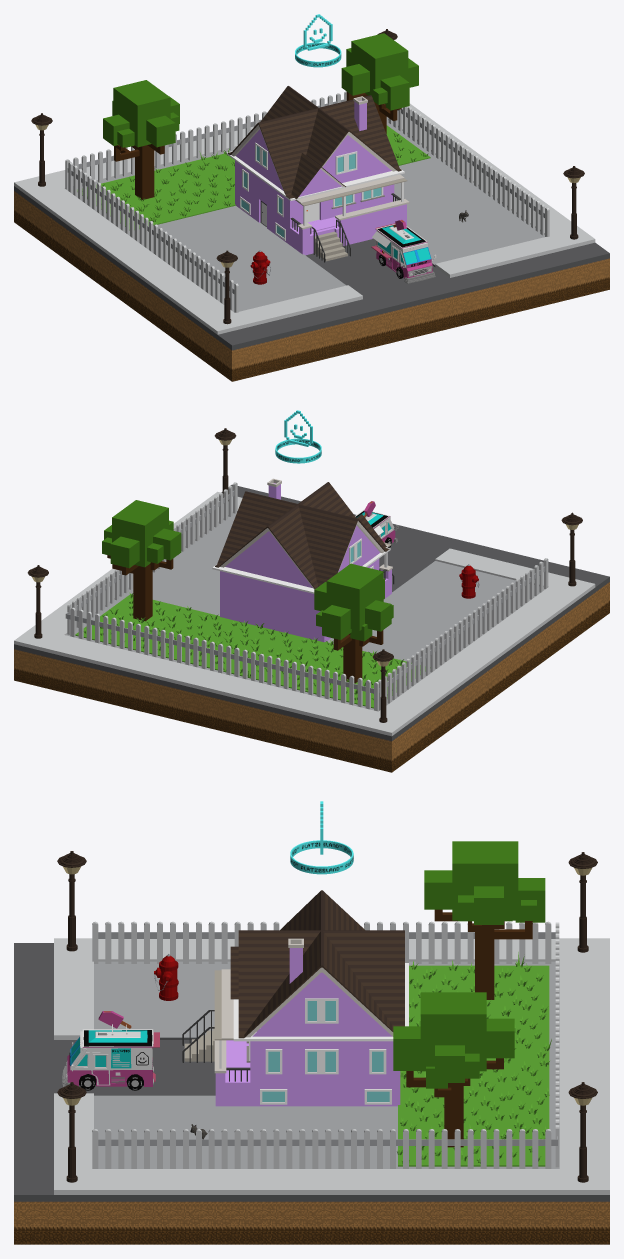
3 renders of one model, top to bottom at view 1: azimuth 30°, elevation 25°; view 2: azimuth 150°, elevation 25°; view 3: azimuth 270°, elevation 25°, orthographic. The views are drawn at different scales.
Visible parts, largest first — view 1: Cube.004, Cube.391, VEHICLES_ICE_CREAM_TRUCK, TYPE_PREMIUM, OBJRANDOM_FIRE_HYDRANT; view 2: Cube.004, Cube.391, TYPE_PREMIUM, VEHICLES_ICE_CREAM_TRUCK, OBJRANDOM_FIRE_HYDRANT; view 3: Cube.004, Cube.391, VEHICLES_ICE_CREAM_TRUCK, TYPE_PREMIUM, OBJRANDOM_FIRE_HYDRANT.
Boxes of the visible parts, bbox=[...] form: Cube.004: bbox=[14, 29, 609, 381]; Cube.391: bbox=[226, 86, 409, 262]; VEHICLES_ICE_CREAM_TRUCK: bbox=[371, 219, 436, 283]; TYPE_PREMIUM: bbox=[295, 14, 341, 67]; OBJRANDOM_FIRE_HYDRANT: bbox=[250, 250, 270, 284]; Cube.004: bbox=[14, 428, 609, 772]; Cube.391: bbox=[212, 478, 394, 642]; TYPE_PREMIUM: bbox=[275, 410, 321, 463]; VEHICLES_ICE_CREAM_TRUCK: bbox=[355, 501, 398, 548]; OBJRANDOM_FIRE_HYDRANT: bbox=[459, 564, 479, 598]; Cube.004: bbox=[14, 841, 609, 1244]; Cube.391: bbox=[182, 890, 408, 1106]; VEHICLES_ICE_CREAM_TRUCK: bbox=[62, 1011, 159, 1090]; TYPE_PREMIUM: bbox=[290, 801, 353, 874]; OBJRANDOM_FIRE_HYDRANT: bbox=[154, 954, 178, 1000].
Bounding box in the file's own units: 4000 × 2417 × 4000.
Materials: 44 (5 with a texture image).
